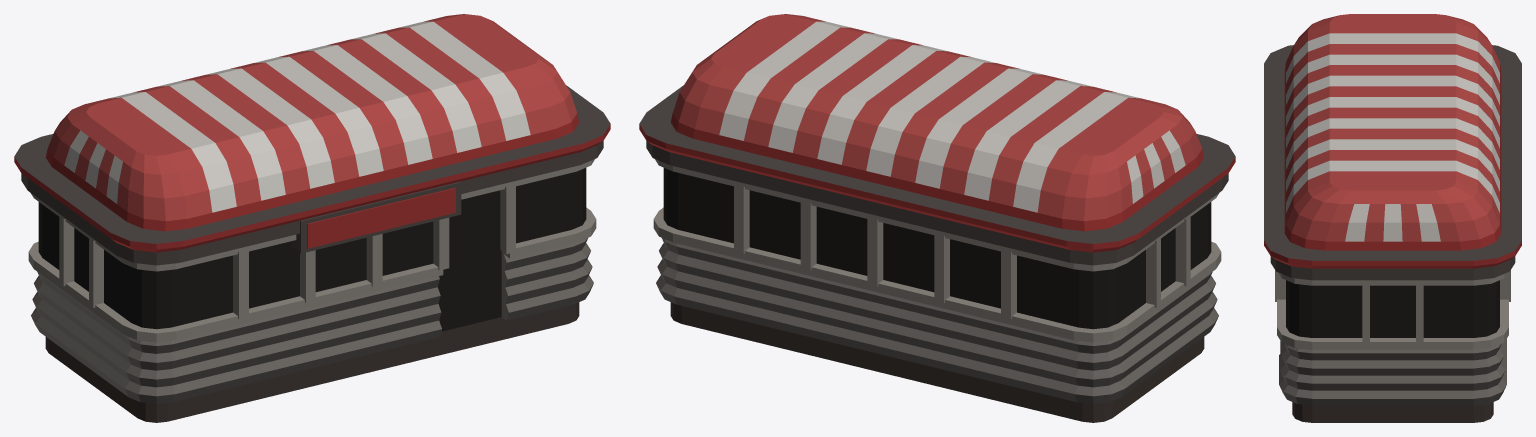
Rendered from street-diner-bb174e.glb.
3 views of the same model, side by side, from view 1: azimuth 30°, elevation 25°; view 2: azimuth 150°, elevation 25°; view 3: azimuth 270°, elevation 25° (orthographic). The views are drawn at different scales.
Parts seen in each view (by area): view 1: diner-shell, door-leaf, sign-board; view 2: diner-shell; view 3: diner-shell.
Boxes of the visible parts, x1=… form: diner-shell: x1=14, y1=14, x2=610, y2=422; door-leaf: x1=438, y1=190, x2=501, y2=331; sign-board: x1=291, y1=181, x2=461, y2=253; diner-shell: x1=639, y1=14, x2=1235, y2=422; diner-shell: x1=1264, y1=14, x2=1521, y2=422.
Bounding box in the file's own units: 8 × 3.83 × 4.
